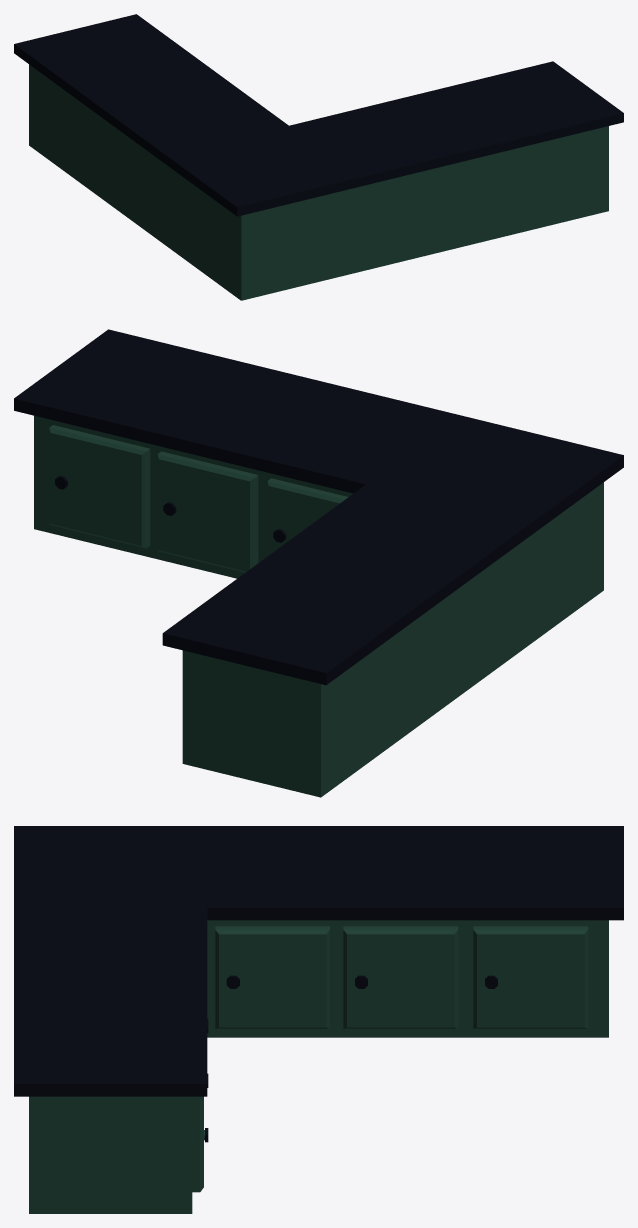
The model's file is labCounter.fbx.
3 views of the same model, one above another, from view 1: azimuth 30°, elevation 25°; view 2: azimuth 150°, elevation 25°; view 3: azimuth 270°, elevation 25° (orthographic). The views are drawn at different scales.
Visible parts, largest first — view 1: Cube; view 2: Cube; view 3: Cube.
Boxes of the visible parts, x1=… form: Cube: x1=14, y1=14, x2=623, y2=300; Cube: x1=14, y1=329, x2=623, y2=797; Cube: x1=14, y1=826, x2=623, y2=1213.
Bounding box in the file's own units: 410 × 101 × 410.
